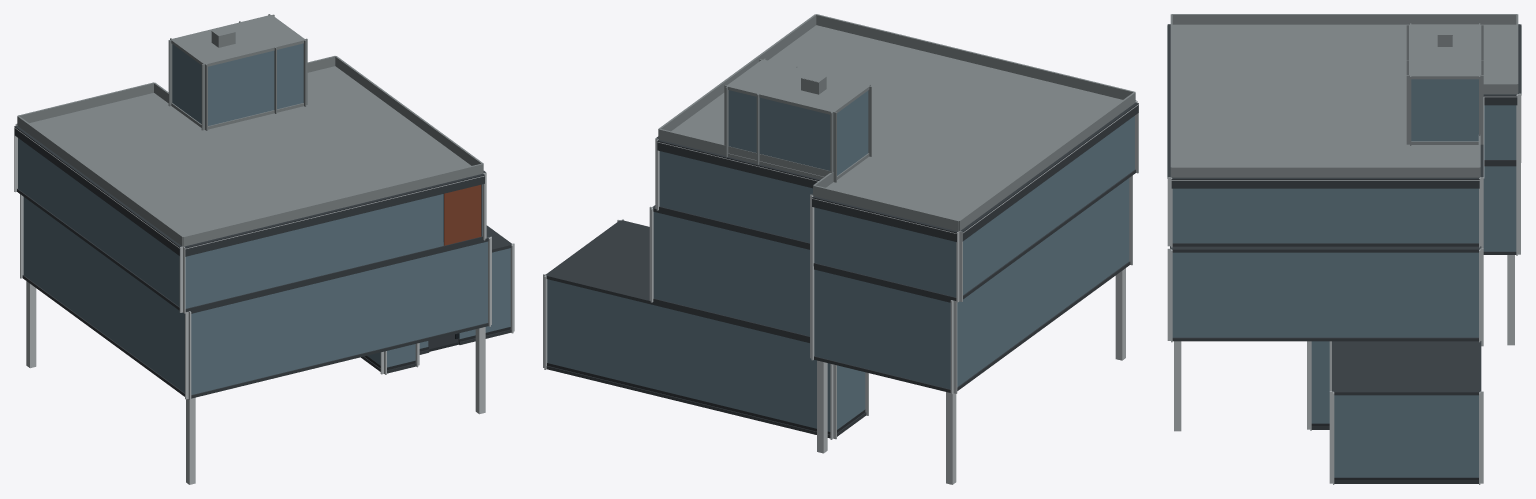
File: building-v2-lod2.glb
3 renders of one model, left to right at view 1: azimuth 30°, elevation 25°; view 2: azimuth 150°, elevation 25°; view 3: azimuth 270°, elevation 25°, orthographic. The views are drawn at different scales.
Parts seen in each view (by area): view 1: building-v2_MATERIAL_BATCH; view 2: building-v2_MATERIAL_BATCH; view 3: building-v2_MATERIAL_BATCH.
Boxes of the visible parts, box(x1,y1,x2,y2) form: building-v2_MATERIAL_BATCH: box(14, 14, 514, 484); building-v2_MATERIAL_BATCH: box(543, 14, 1138, 484); building-v2_MATERIAL_BATCH: box(1167, 14, 1521, 484).
Size of the model in its own units: 29.52 by 21.8 by 21.03.
